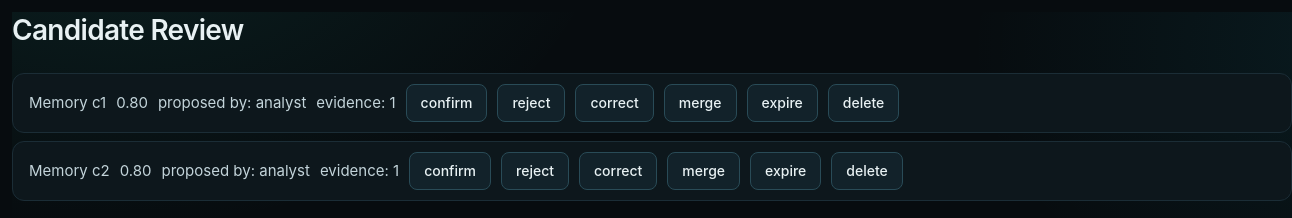
Test case: CandidateReviewPage › optimistically removes a confirmed candidate
Click the button "confirm" in the row of "Memory c1": coordinates (447, 103) [406,84,488,122]
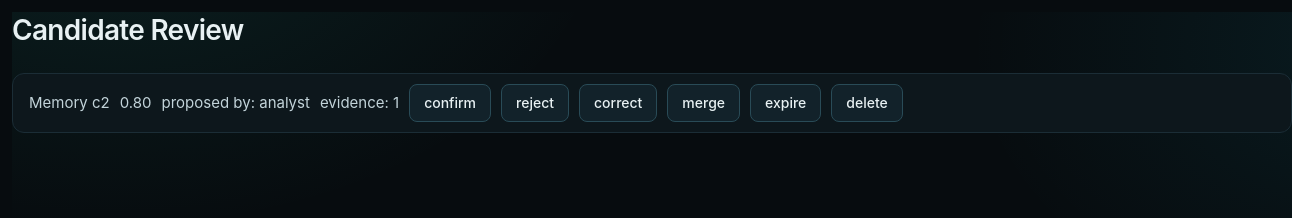
Now the list item with test id "candidate-c1" is gone
